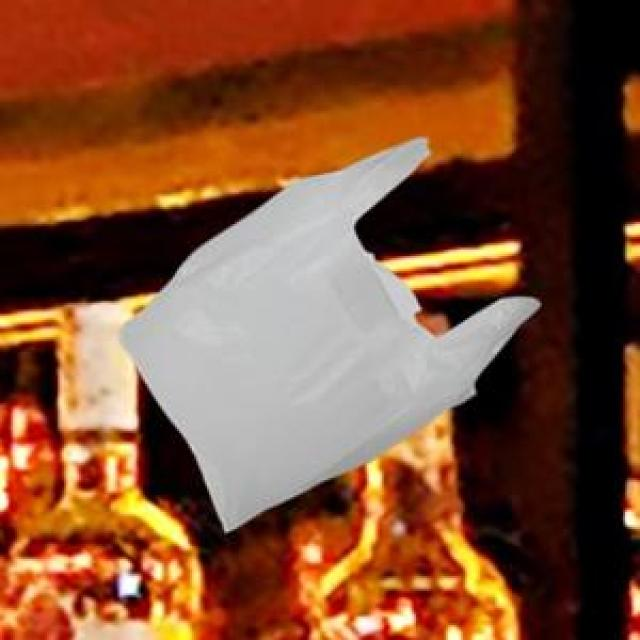plastic: (89, 157, 538, 539)
